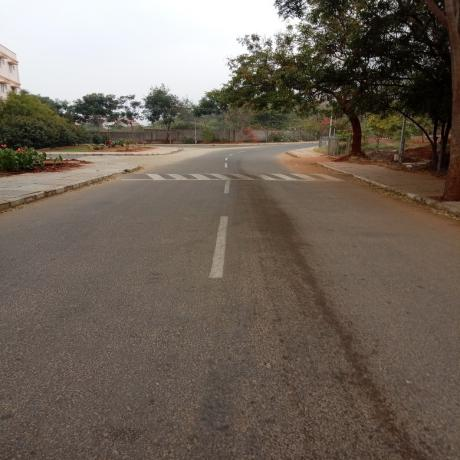Speed Bump: (112, 171, 350, 180)
